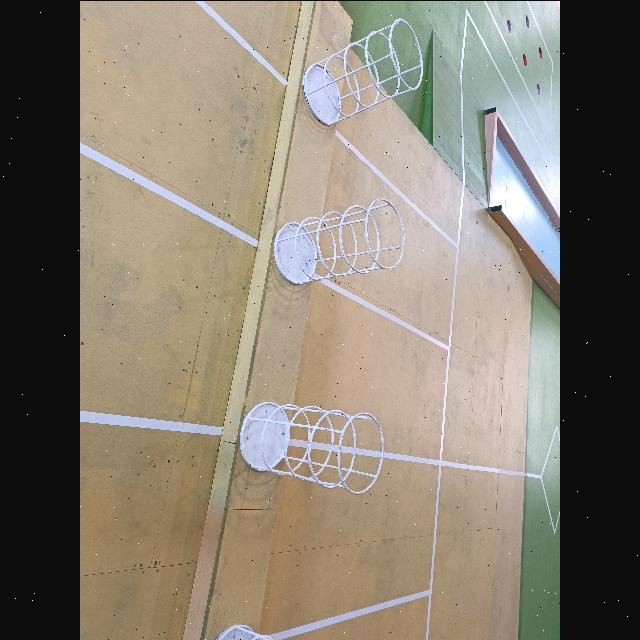S: (238, 402, 384, 494), (303, 17, 425, 126), (273, 196, 404, 284), (216, 622, 278, 640)
